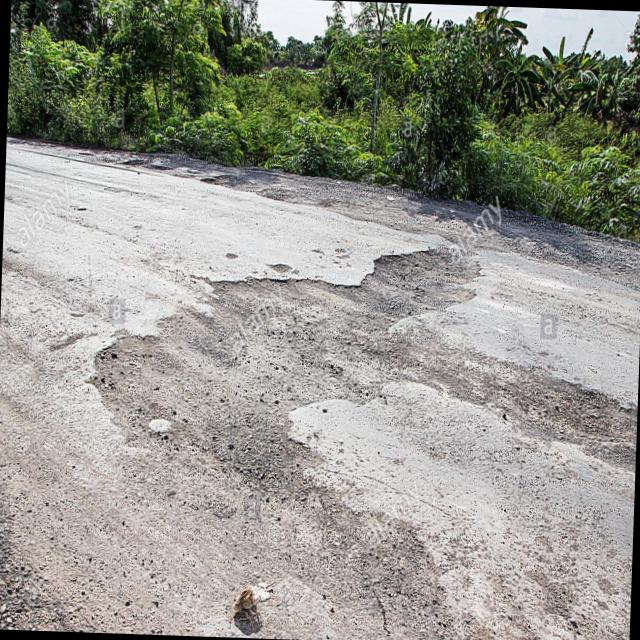Potholes: (69, 224, 640, 640)
